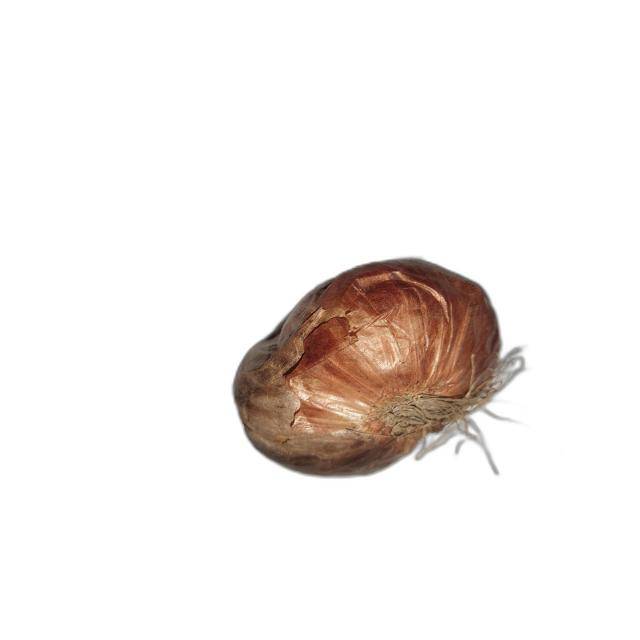onion: (231, 258, 532, 480)
